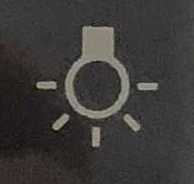light: (11, 11, 181, 171)
